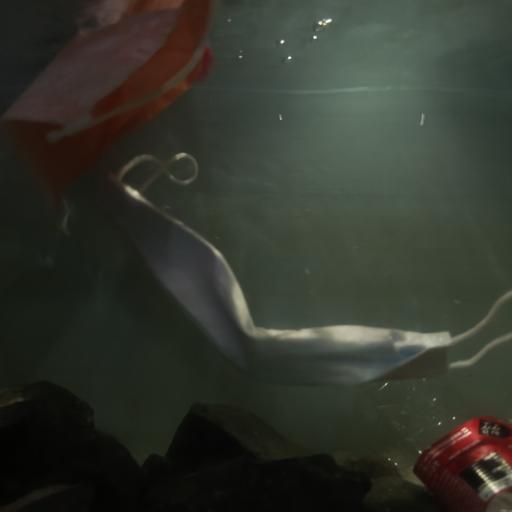mask: (99, 143, 512, 386), (1, 0, 220, 215)
plastic_bottle: (355, 372, 512, 512)
